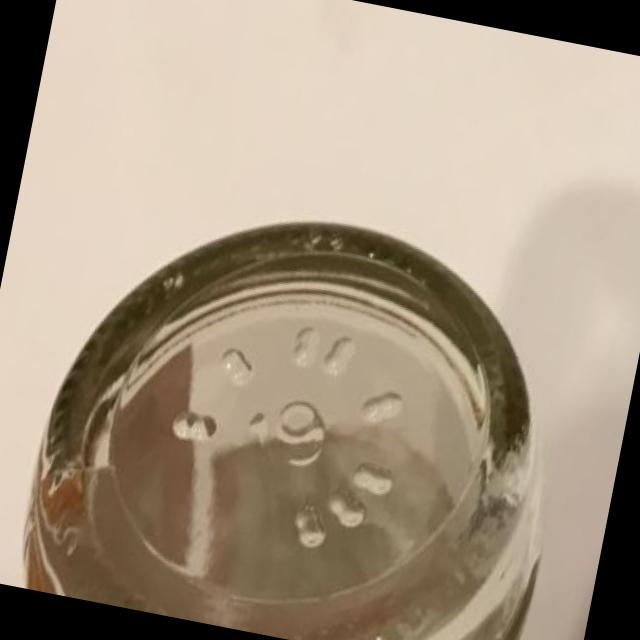chai_thuy_tinh: (25, 224, 541, 640)
